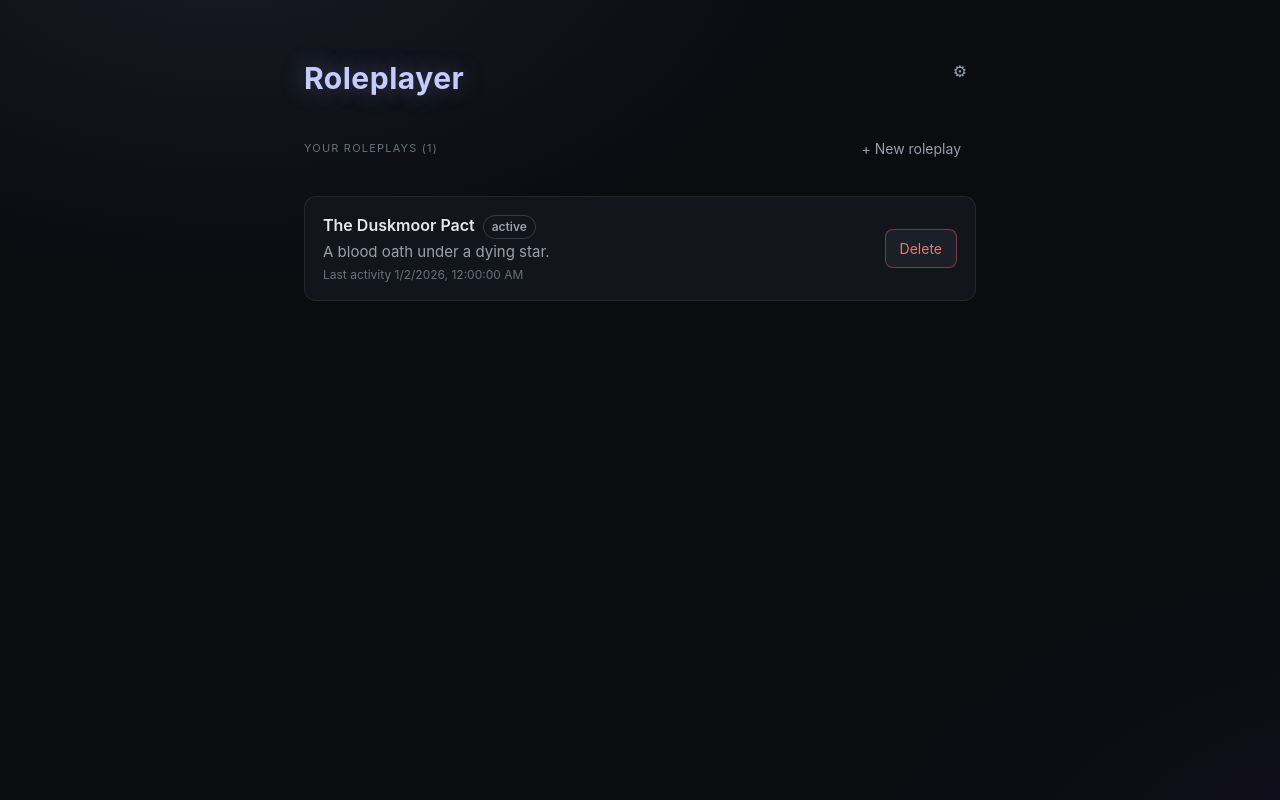
Test: App stage flow › lands on the lobby and opens a campaign's chat
Expected: the heading "Roleplayer" is shown, [304, 56, 464, 101]
Expected: the text "The Duskmoor Pact" is shown, [323, 215, 475, 235]
Note: Clicking the row's open target navigates into the chat stage.
Click the text "The Duskmoor Pact" at coordinates (429, 227), box [323, 215, 536, 239]
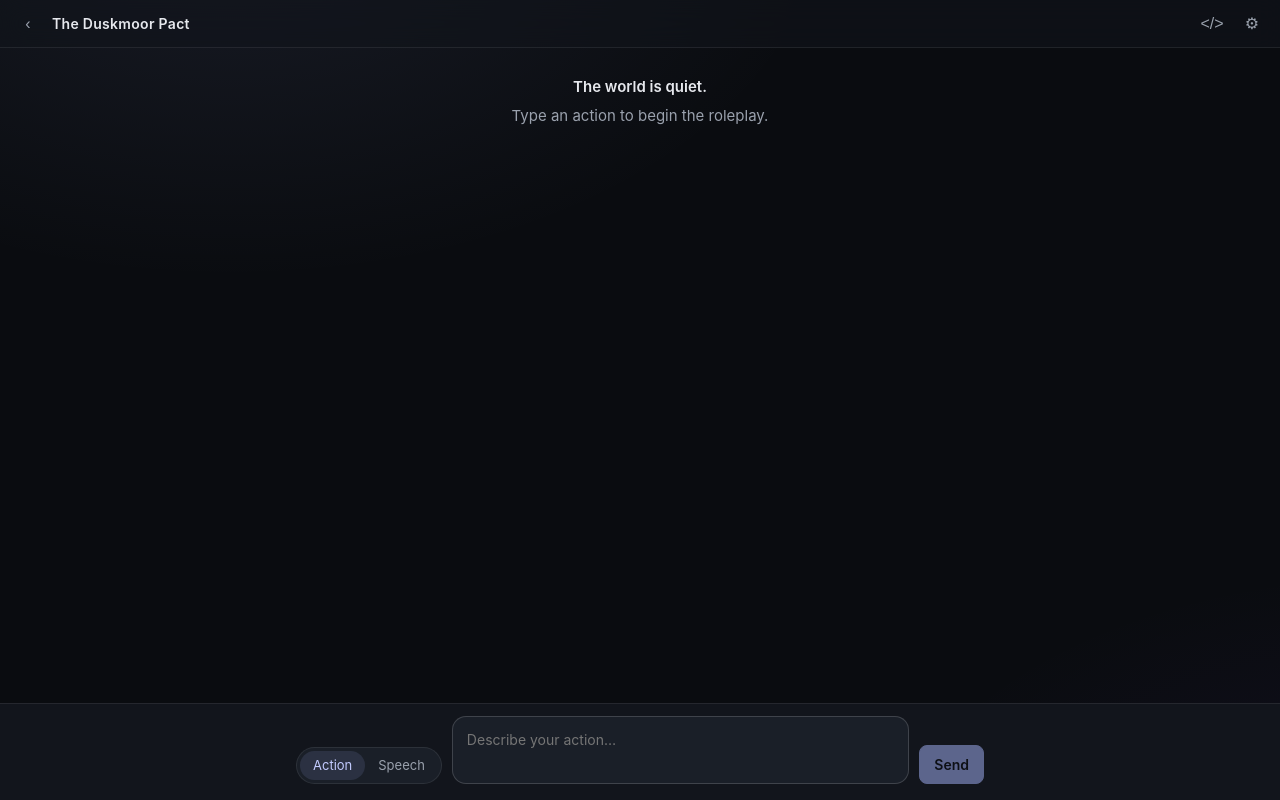
Result: the text box with placeholder "Describe your action…" is shown at [452, 716, 909, 784]
Result: the element named "Message mode" is shown at [296, 746, 442, 784]
Result: the button "Action" is shown at [300, 750, 365, 780]
